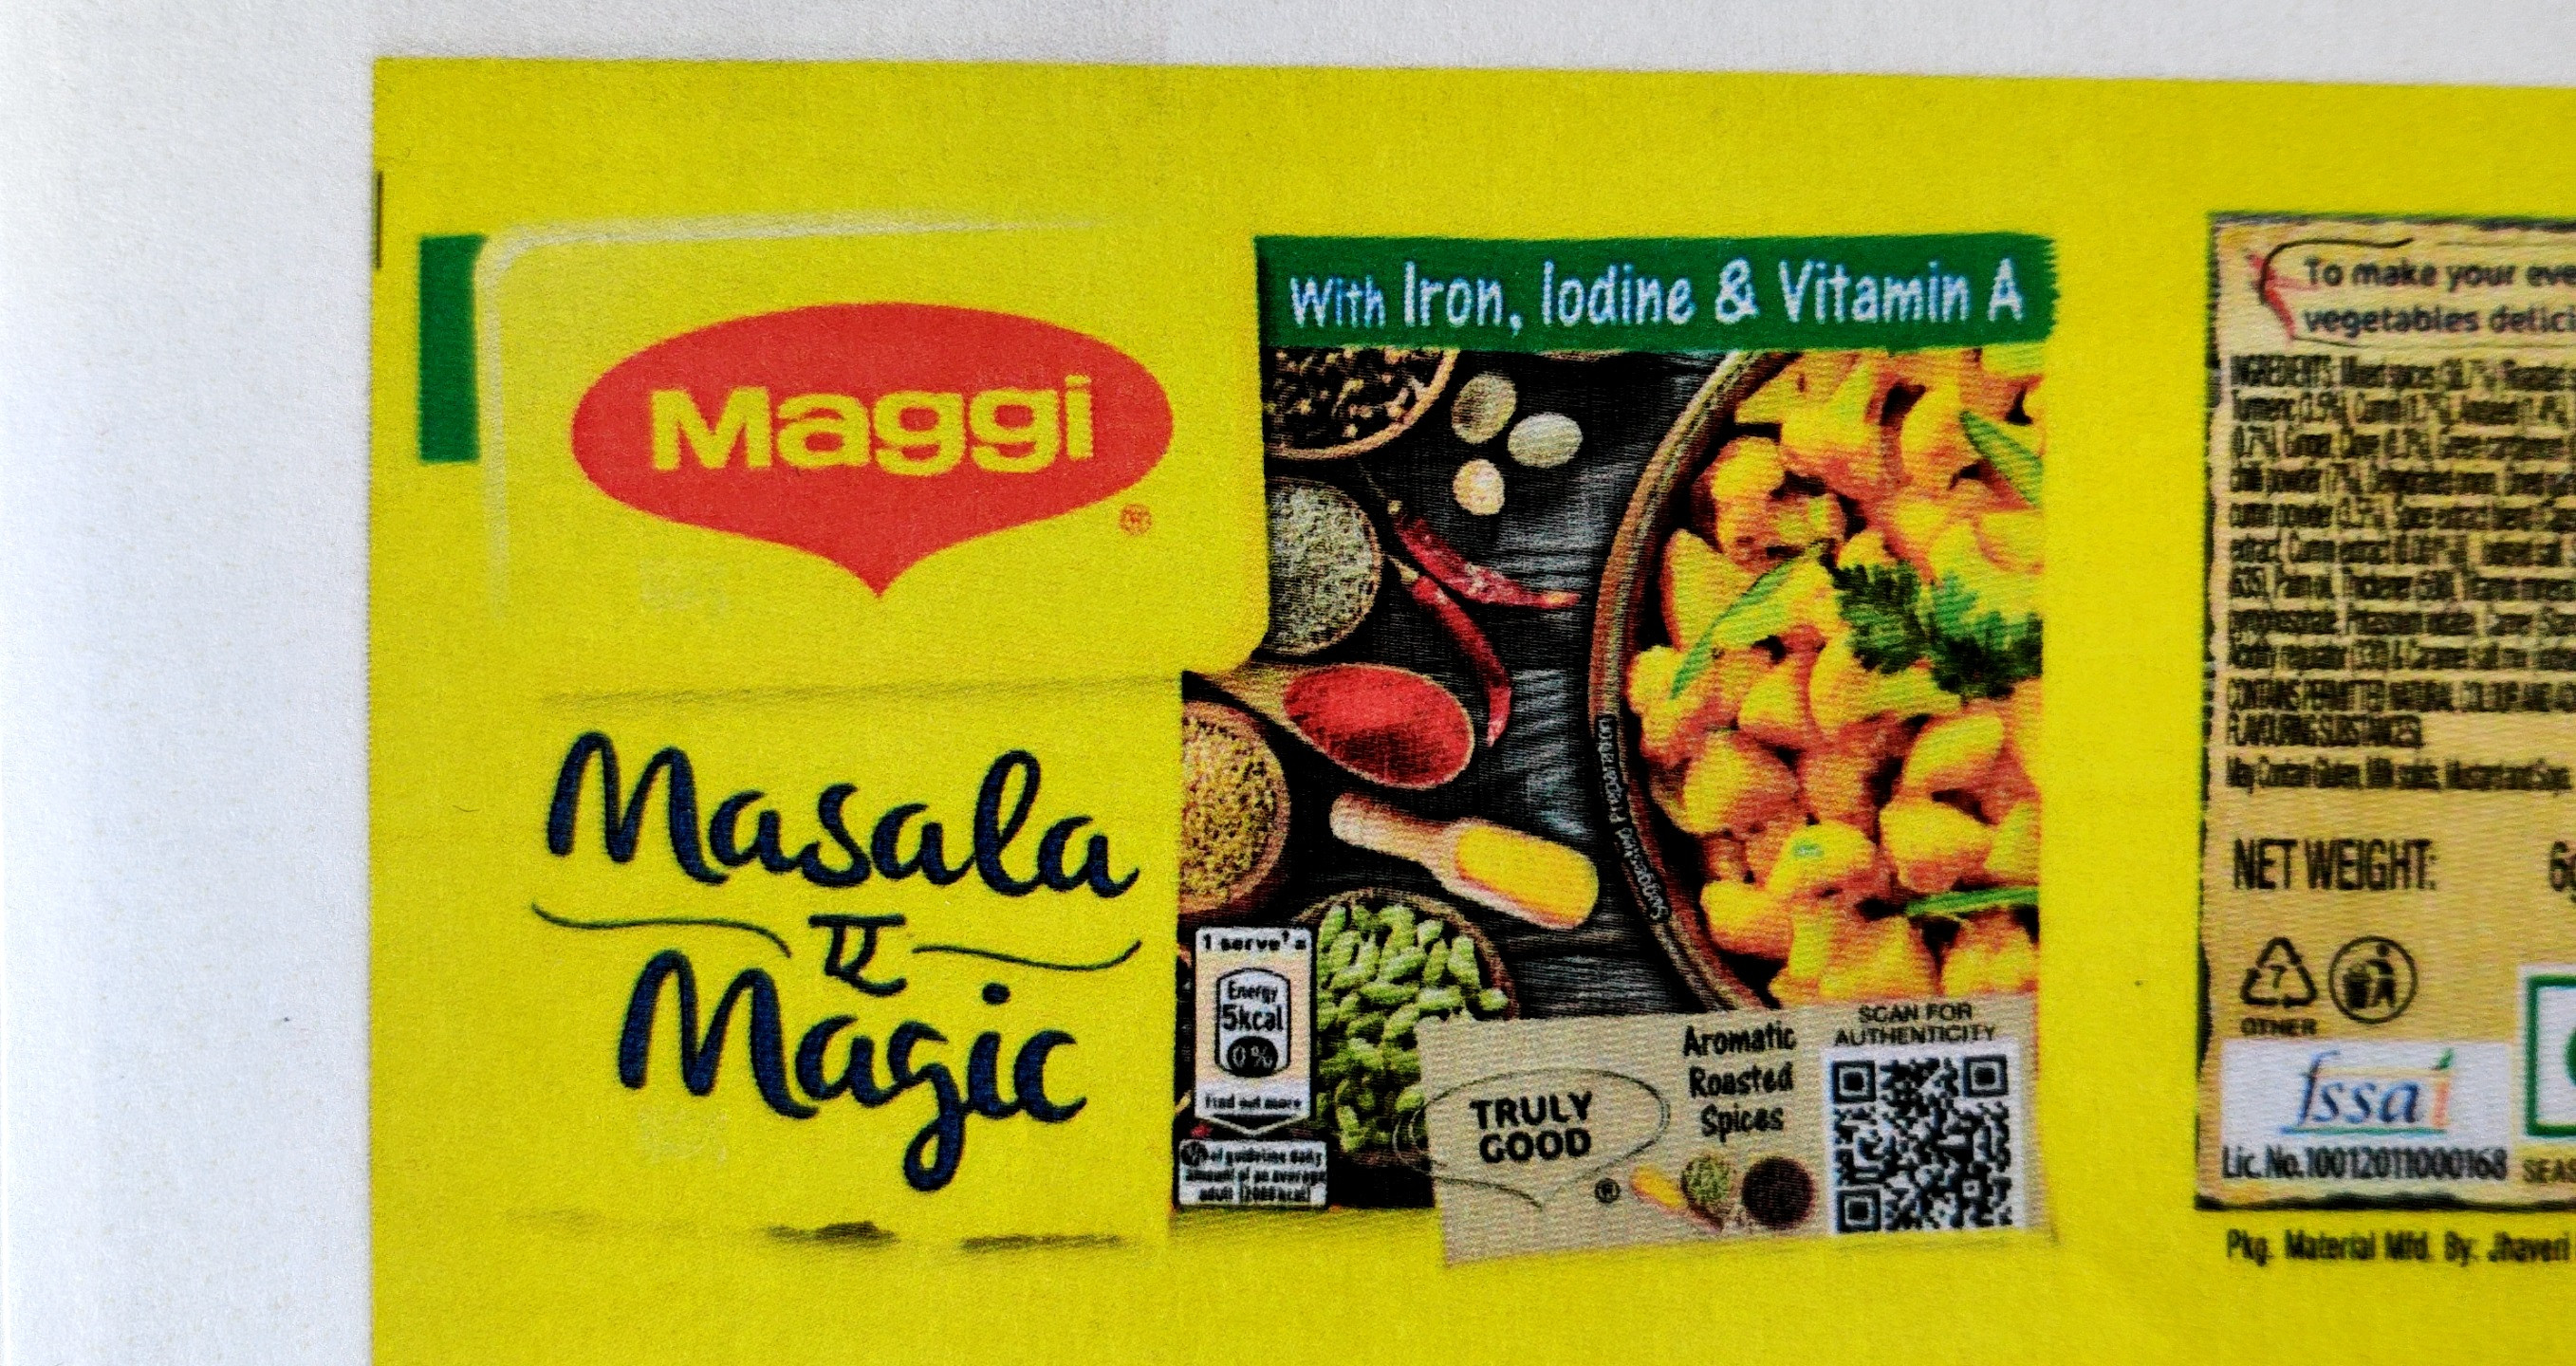qr_code: (1821, 1044, 2031, 1237)
